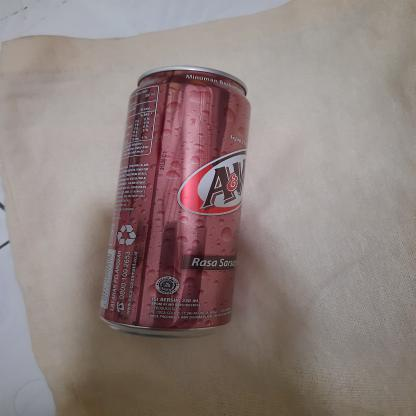bottle: (99, 66, 255, 338)
